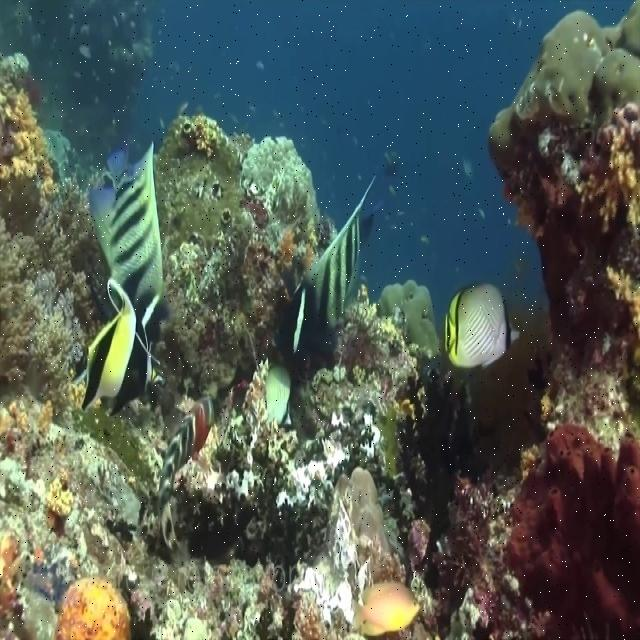fish: (279, 175, 382, 355), (89, 142, 163, 324), (71, 280, 160, 414), (445, 284, 522, 368), (157, 400, 215, 501), (350, 583, 421, 635)
reefs: (508, 426, 639, 638), (491, 1, 639, 144)
